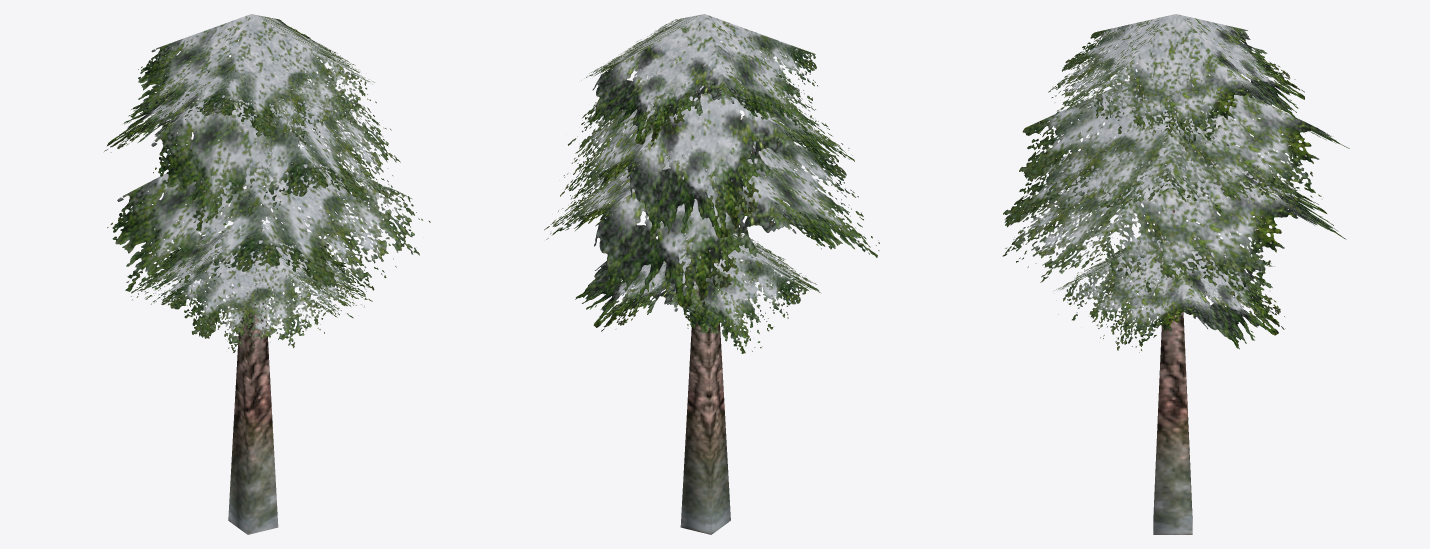
The model's file is tree7.dae.
3 views of the same model, side by side, from view 1: azimuth 30°, elevation 25°; view 2: azimuth 150°, elevation 25°; view 3: azimuth 270°, elevation 25° (orthographic).
Visible parts, largest first — view 1: Untitled; view 2: Untitled; view 3: Untitled.
Boxes of the visible parts, box(x1,y1,x2,y2) form: Untitled: box(104, 14, 430, 534); Untitled: box(544, 14, 879, 534); Untitled: box(1002, 14, 1349, 534).
Bounding box in the file's own units: 4.06 × 4.42 × 5.22.
1 material, 1 textured.
